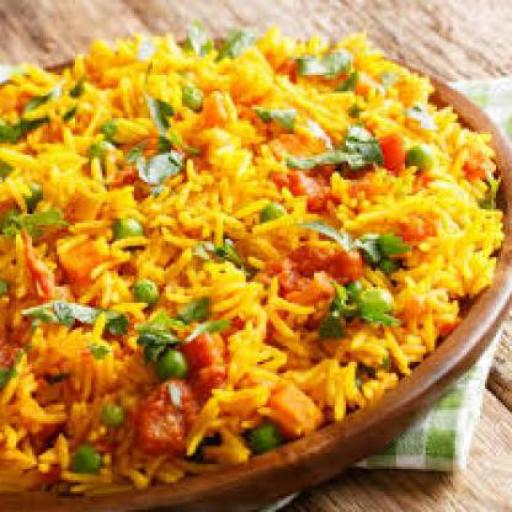biodegradable: (2, 25, 501, 492), (262, 240, 360, 310), (5, 291, 123, 334), (299, 119, 387, 173), (301, 216, 409, 258), (178, 321, 229, 394), (137, 89, 198, 150), (264, 155, 348, 198), (151, 382, 202, 441), (2, 84, 50, 146), (26, 230, 68, 294), (134, 139, 191, 185), (176, 25, 250, 59), (2, 200, 68, 237), (295, 48, 362, 80), (2, 321, 32, 382), (174, 289, 225, 323), (370, 130, 405, 175), (330, 59, 369, 96), (72, 437, 110, 474), (239, 418, 282, 450), (402, 141, 437, 180), (152, 346, 194, 378), (176, 82, 208, 121), (109, 212, 146, 244), (359, 287, 399, 316), (259, 103, 307, 125), (102, 398, 137, 423), (132, 280, 160, 302)
